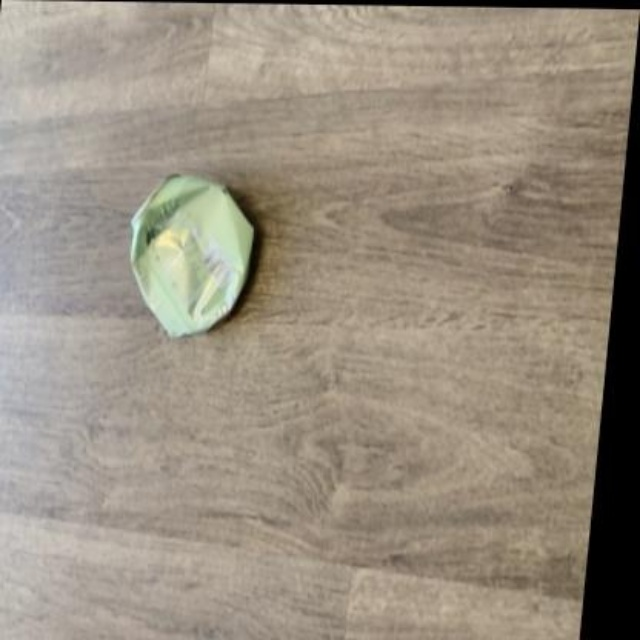trash: (131, 174, 252, 335)
